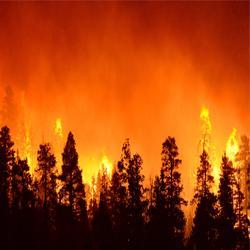fire: (223, 132, 243, 166), (201, 107, 214, 158), (98, 156, 115, 176), (54, 116, 64, 136)
